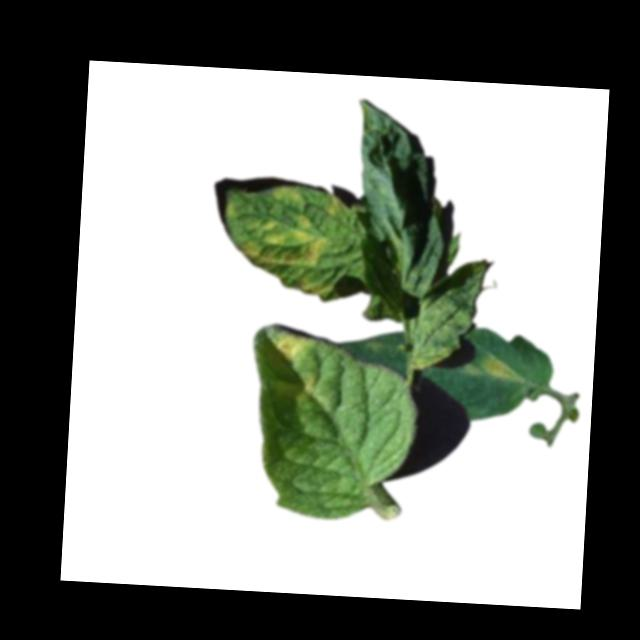Leaf_Mold: (237, 214, 325, 298), (461, 354, 526, 384), (278, 331, 313, 362), (270, 183, 305, 206), (304, 370, 321, 398), (326, 193, 346, 214)
